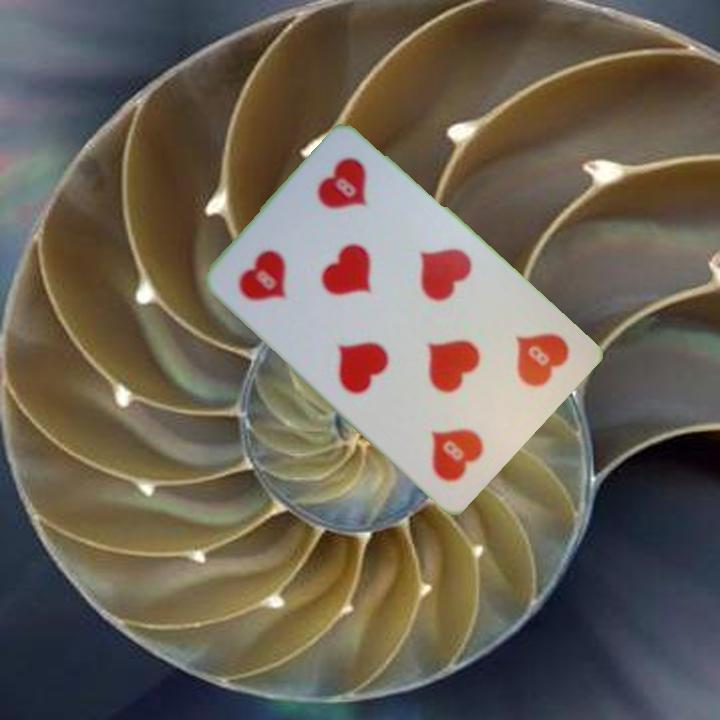h_8.png: (454, 297, 583, 427), (217, 207, 345, 336)
